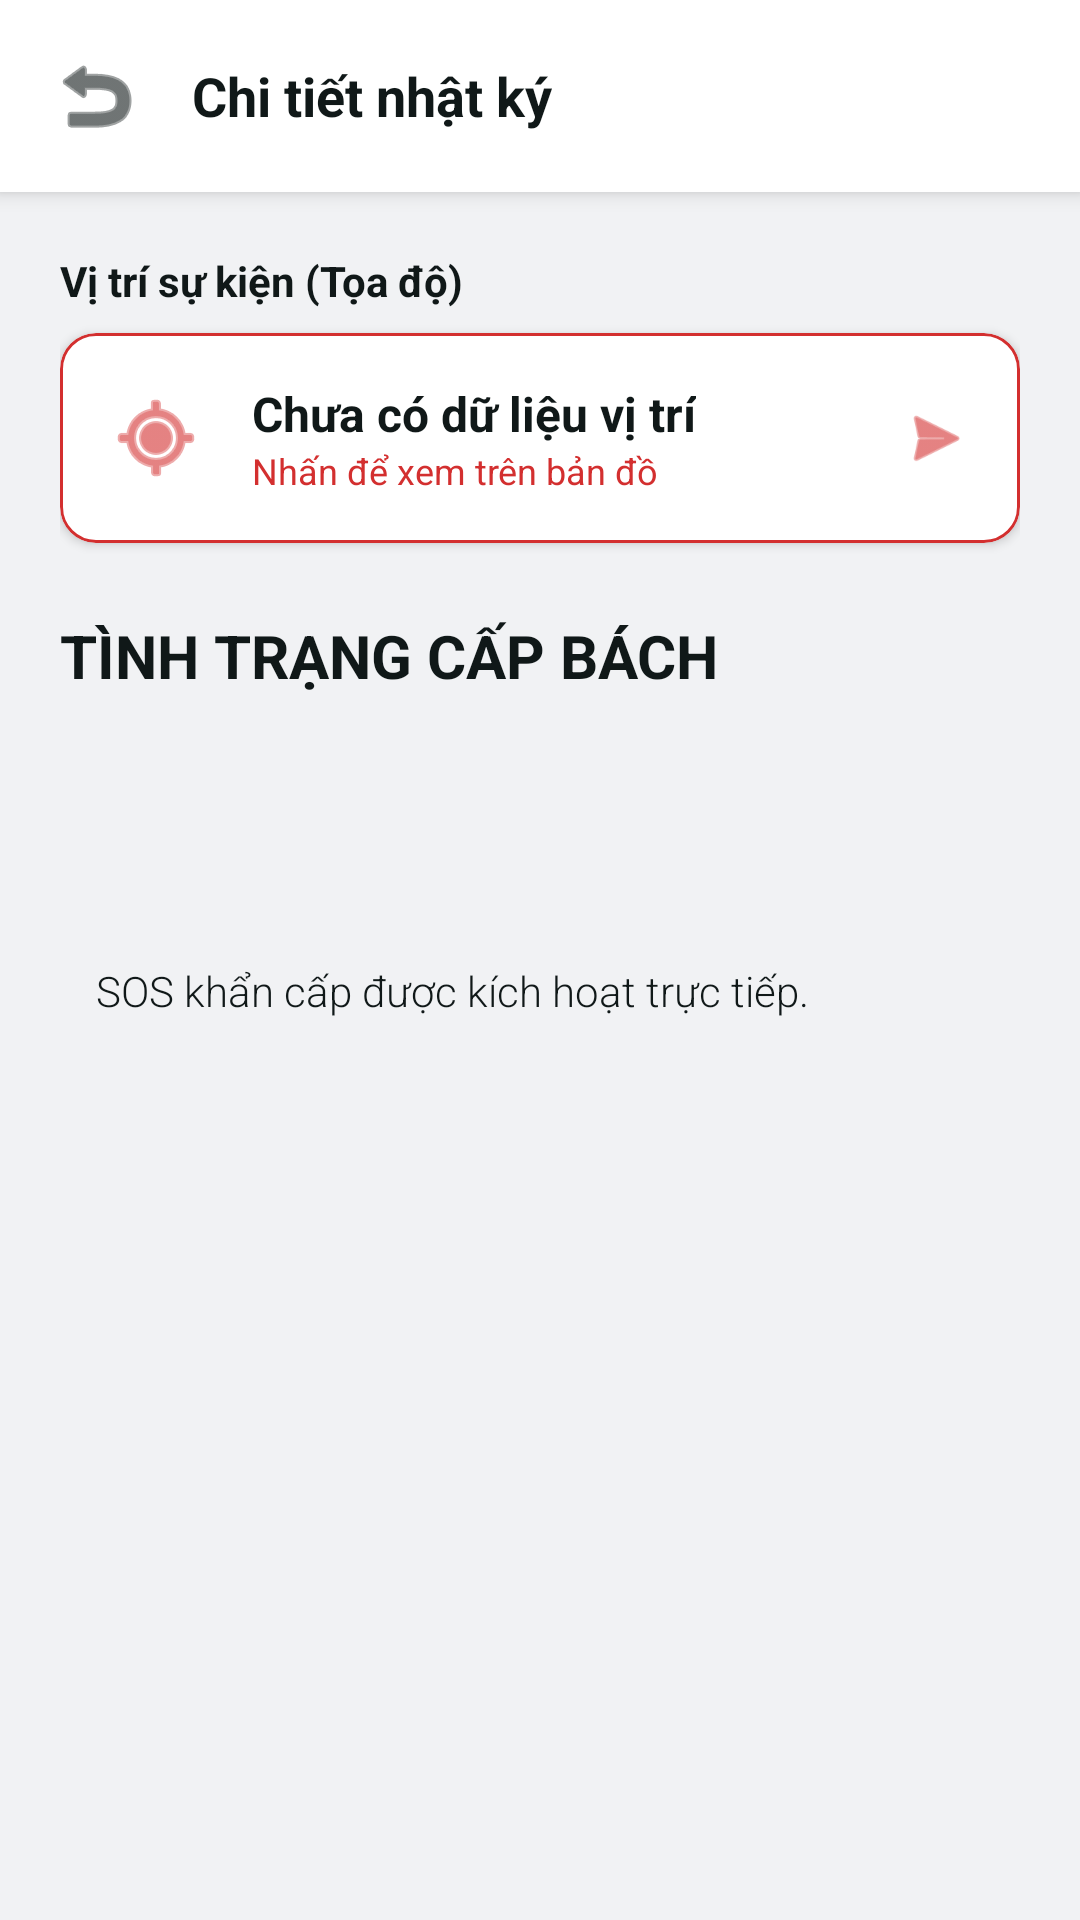

Named icons in this screenshot (1080px x 1920px) and their bounding boxes, (x1,y1,x2,y2):
mylocation: (118,400,194,476)
Quay lại: (63,65,132,128)
send: (914,416,960,461)
